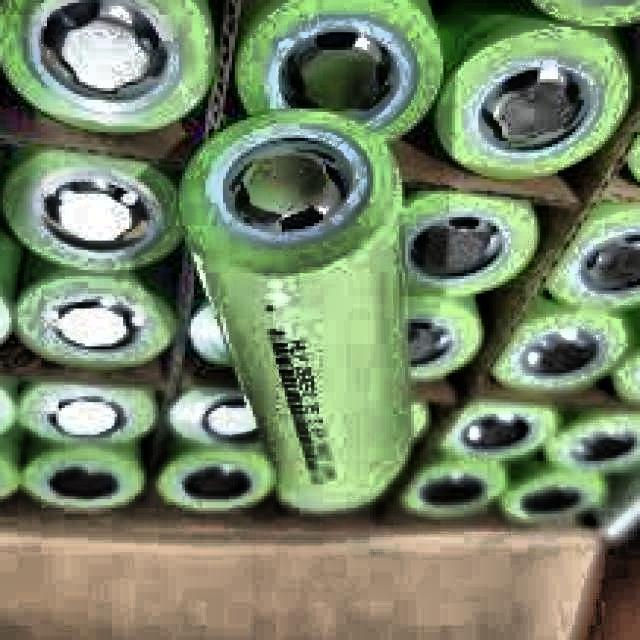battery: (177, 110, 414, 514)
